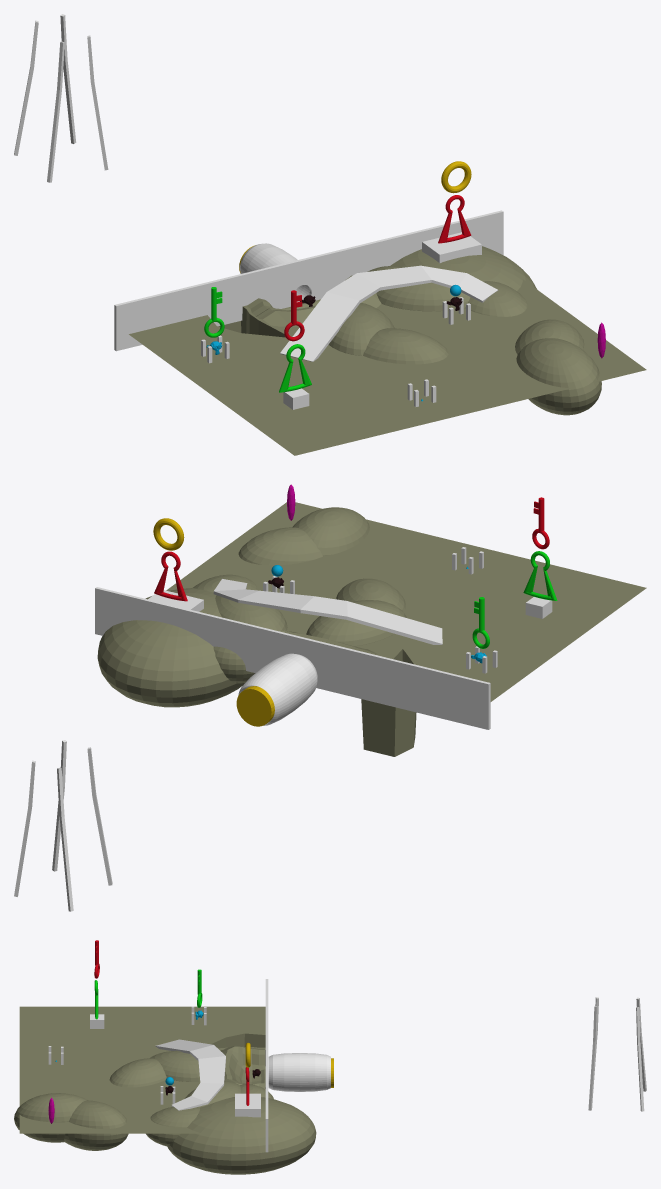
The model's file is deserto_area_1_mesh_collider.fbx.
3 renders of one model, top to bottom at view 1: azimuth 30°, elevation 25°; view 2: azimuth 150°, elevation 25°; view 3: azimuth 270°, elevation 25°, orthographic. The views are drawn at different scales.
Parts seen in each view (by area): view 1: Plane.002, Cube.004, Sphere, Cube.005, Sphere.006, Cube.007, Plane, Torus.004, Sphere.007, Cube.003, Torus.001, Torus.003; view 2: Plane.002, Sphere, Cube.004, Cube.005, Torus.004, Cube.007, Sphere.006, Sphere.007, Cylinder, Torus.003, Torus.001; view 3: Plane.002, Sphere, Torus.004, Cube.005, Sphere.007, Sphere.006, Plane, Cube.007, Cube.004, Cube.003.
Part boxes in pixels (x1,y1,x2,y2): Plane.002: (129, 279, 646, 455); Cube.004: (114, 210, 503, 351); Sphere: (328, 246, 536, 364); Cube.005: (280, 265, 498, 361); Sphere.006: (516, 338, 601, 415); Cube.007: (14, 14, 108, 182); Plane: (247, 275, 381, 326); Torus.004: (240, 243, 309, 302); Sphere.007: (515, 319, 584, 354); Cube.003: (422, 232, 481, 263); Torus.001: (279, 344, 311, 392); Torus.003: (438, 195, 471, 243); Plane.002: (166, 502, 646, 756); Sphere: (97, 574, 406, 707); Cube.004: (95, 587, 490, 729); Cube.005: (213, 579, 442, 644); Torus.004: (238, 653, 317, 725); Cube.007: (14, 740, 112, 911); Sphere.006: (292, 507, 369, 556); Sphere.007: (238, 527, 322, 565); Cylinder: (236, 686, 274, 726); Torus.003: (154, 551, 187, 601); Torus.001: (523, 551, 557, 600); Plane.002: (19, 1006, 265, 1133); Sphere: (109, 1050, 316, 1174); Torus.004: (268, 1053, 330, 1091); Cube.005: (155, 1039, 225, 1110); Sphere.007: (64, 1100, 128, 1150); Sphere.006: (14, 1093, 87, 1142); Plane: (221, 1045, 265, 1088); Cube.007: (588, 997, 646, 1111); Cube.004: (265, 979, 268, 1152); Cube.003: (235, 1093, 260, 1117).
Size of what is drawn, in the model's own units: 24695 by 10867 by 47059.
